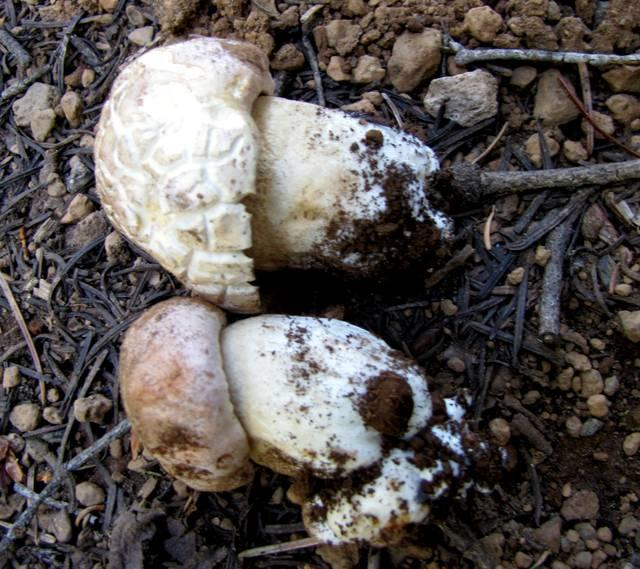edible_mushroom: (116, 296, 499, 566), (91, 33, 455, 313)
